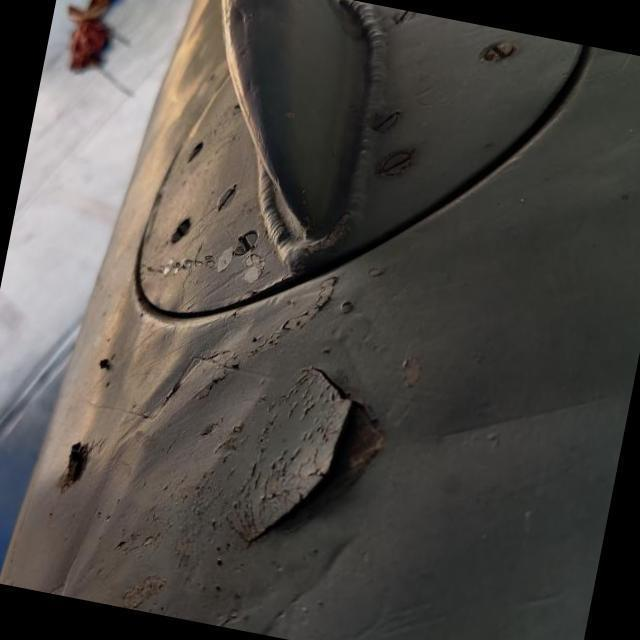Rupture: (200, 334, 417, 578)
